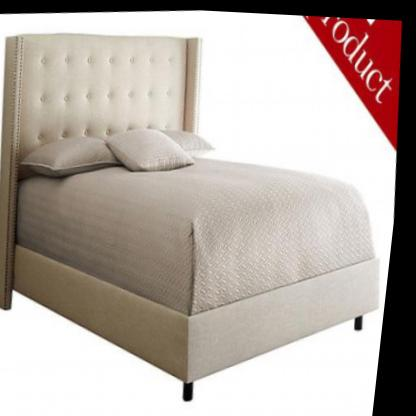Bed: (0, 7, 415, 416)
